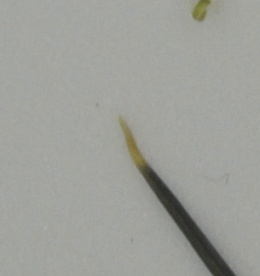เมล็ดดีเรียวยาว: (114, 115, 240, 276)
